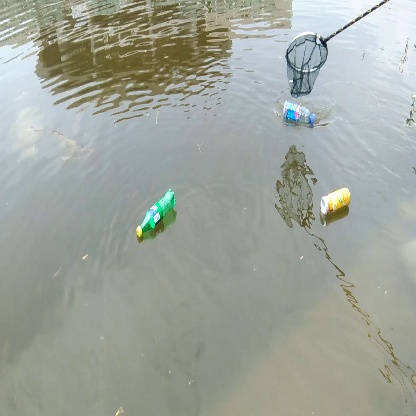bottle: (133, 188, 184, 239), (278, 98, 315, 135), (318, 184, 353, 219)
